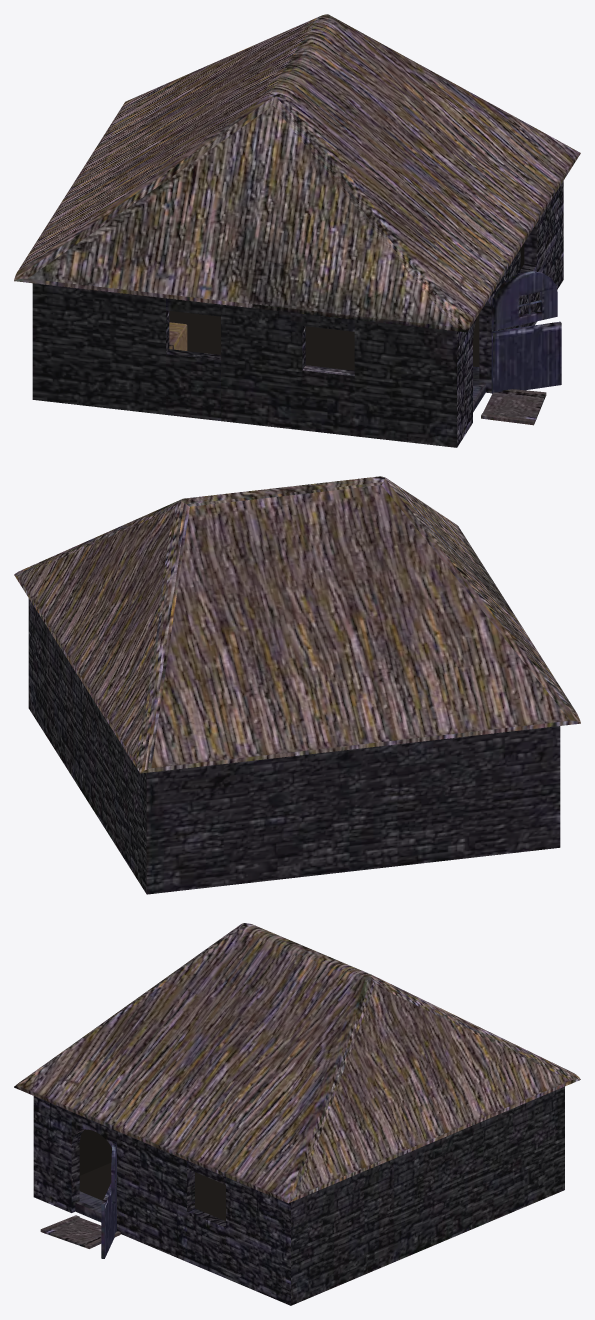
File: pepins-house_textured.glb
3 views of the same model, one above another, from view 1: azimuth 30°, elevation 25°; view 2: azimuth 150°, elevation 25°; view 3: azimuth 270°, elevation 25° (orthographic). The views are drawn at different scales.
Visible parts, largest first — view 1: roofs, walls, frames, openings; view 2: roofs, walls; view 3: roofs, walls, openings, frames.
Part boxes in pixels (box(x1,y1,x2,y2)): roofs: box(14, 14, 580, 332); walls: box(32, 181, 563, 447); frames: box(169, 271, 561, 425); openings: box(169, 243, 524, 370); roofs: box(14, 476, 580, 773); walls: box(28, 598, 560, 894); roofs: box(14, 923, 580, 1203); walls: box(33, 1086, 564, 1305); openings: box(79, 1129, 225, 1220); frames: box(40, 1141, 120, 1258).
Size of the model in its own units: 9.52 by 4.57 by 9.52.
Materials: 2 (1 with a texture image).
